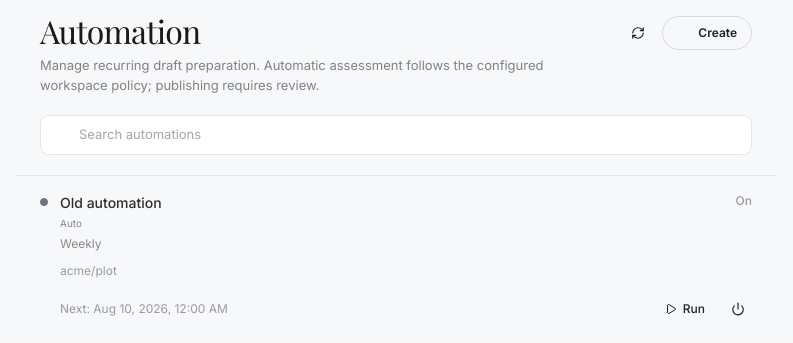
Test case: RoutinesWorkspace › ignores a run response from the previous workspace
The image size is (793, 343).
What coordinates should you click on to do the following:
click the button "Run"
I would click on:
 (685, 309)
Its box is [650,292,720,326].
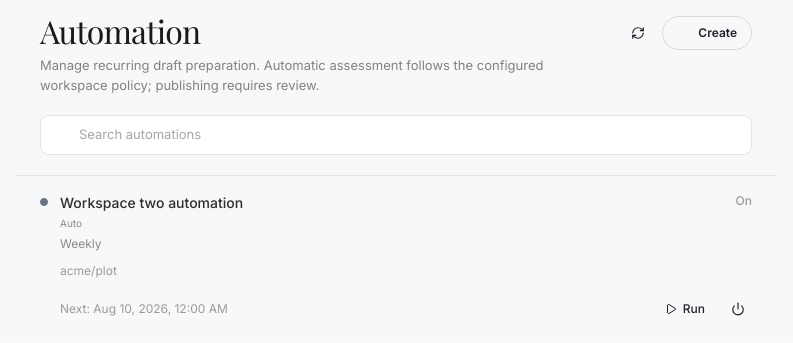
Now the heading "Workspace two automation" is shown, box [60,192,243,213]
Now the heading "Old automation" is gone
